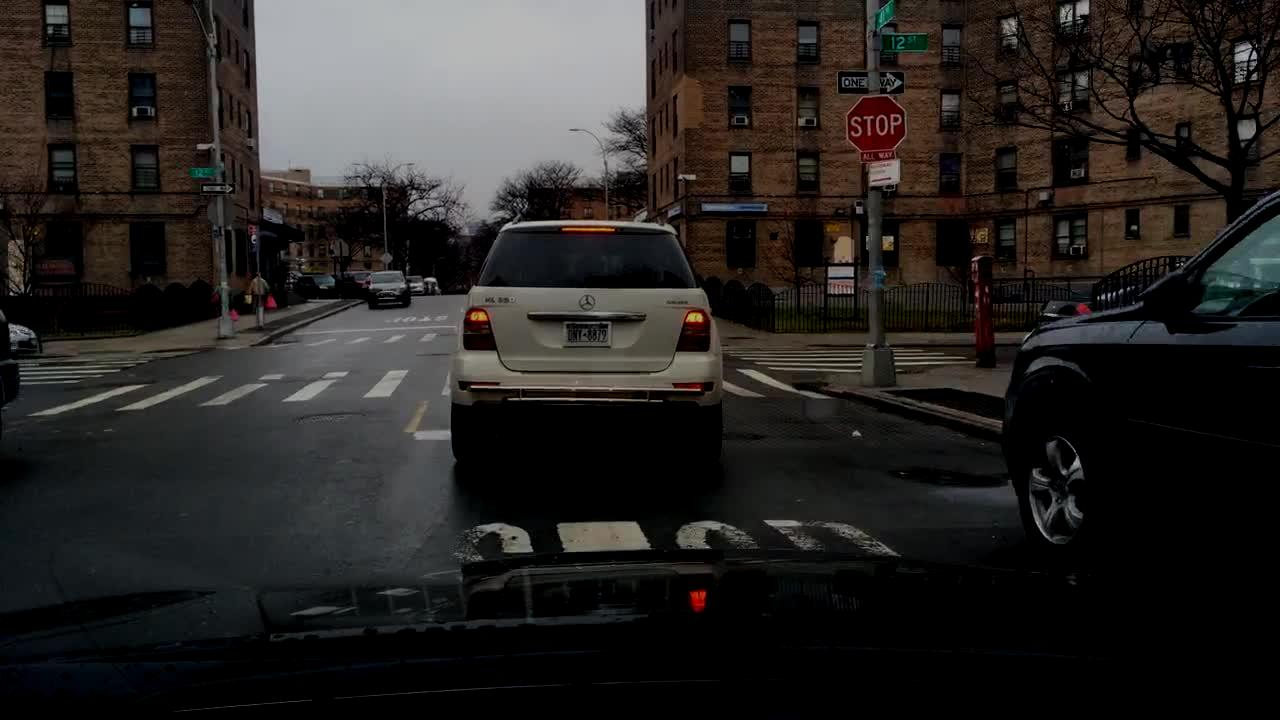Mercedes: (574, 291, 599, 315)
